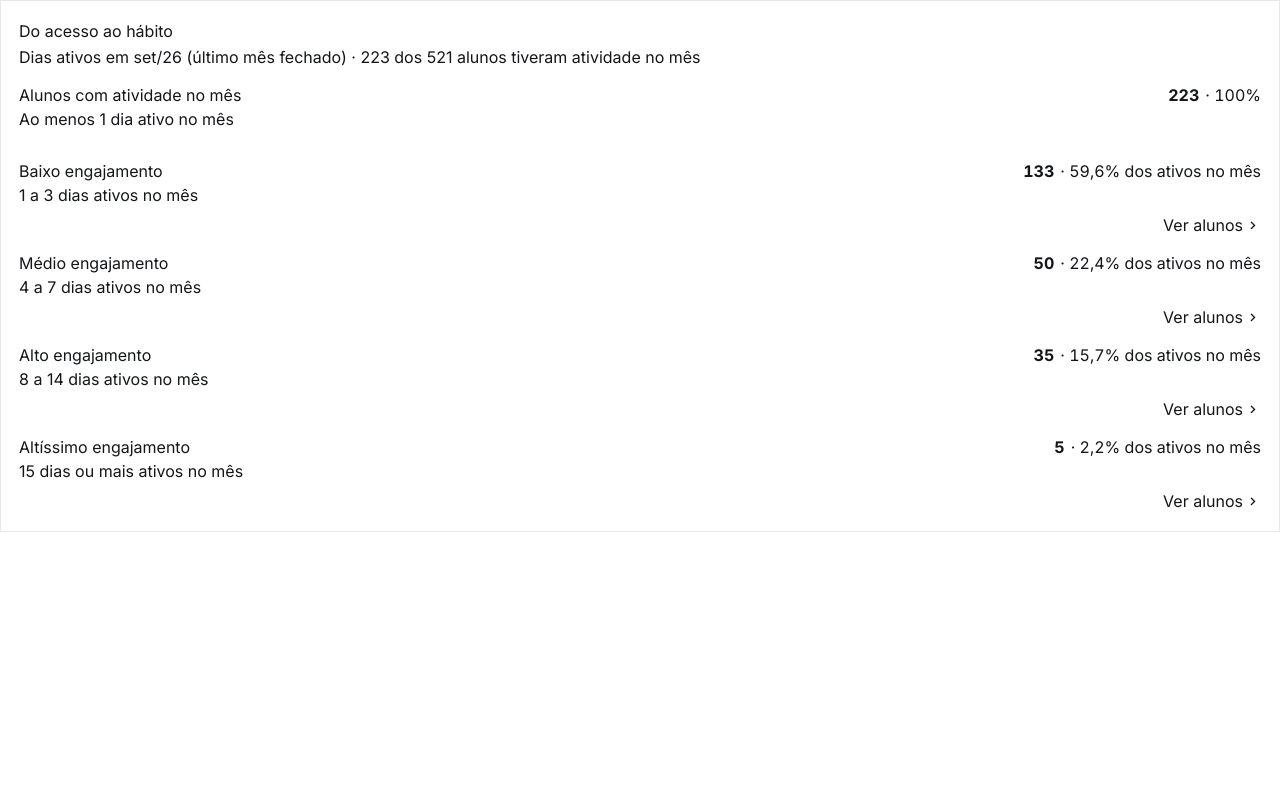
Test case: DoAcessoAoHabito — pop-up da faixa › clicar em altissimo abre o pop-up e consulta habito_altissimo (20 por página)
Step 1. Click the button with aria-label "Altíssimo engajamento: 5 alunos · ver lista de alunos" → (105, 447), box left=11, top=429, right=1269, bottom=519
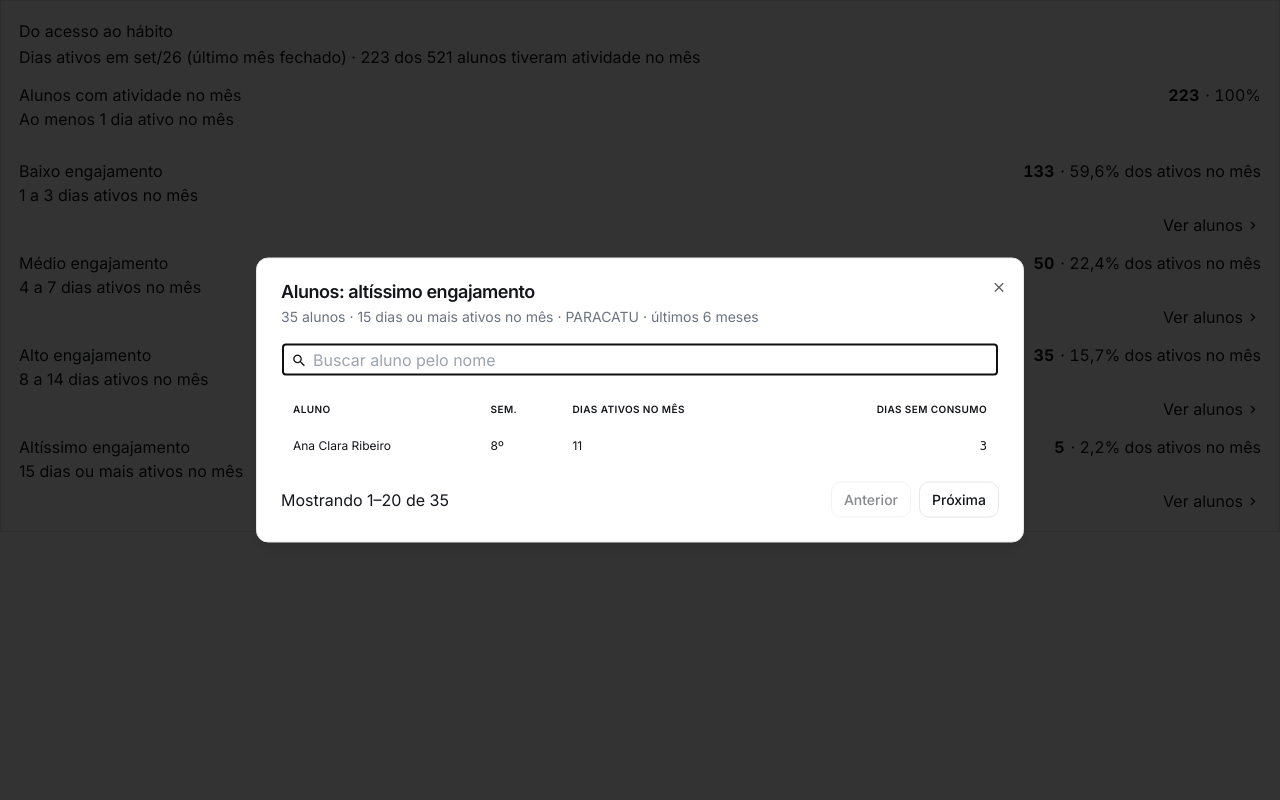
Now the dialog with test id "lista-alunos-dialog" is shown, box left=256, top=258, right=1024, bottom=542
